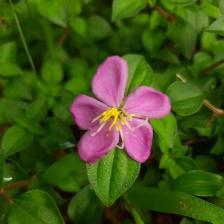malabar melastome: (69, 55, 174, 166)
